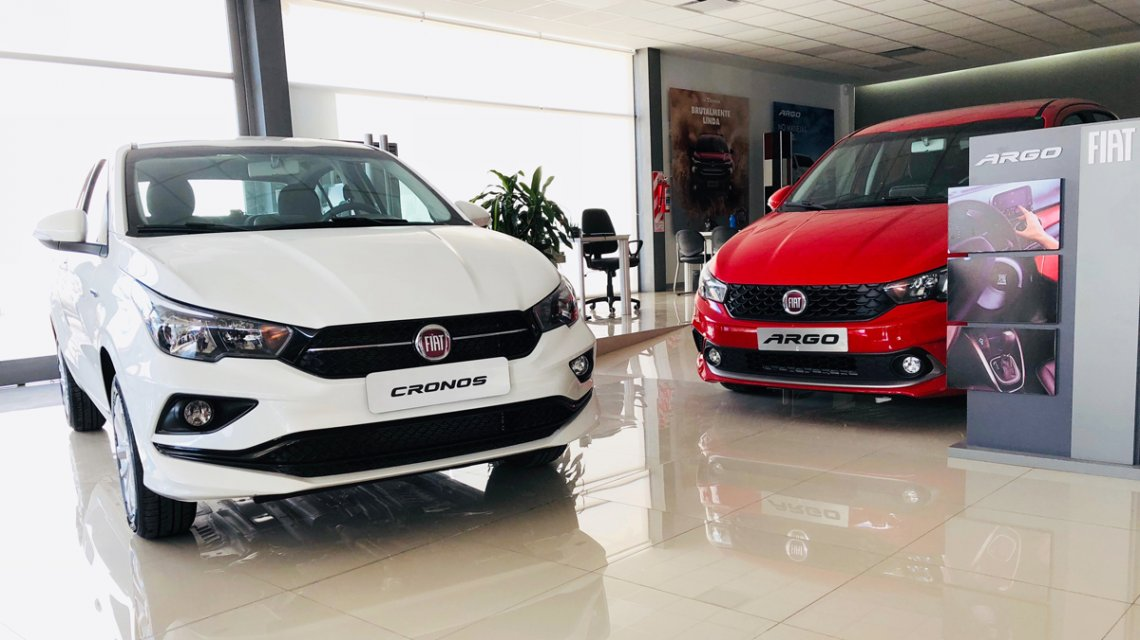car: (40, 138, 597, 525), (689, 100, 1113, 409)
